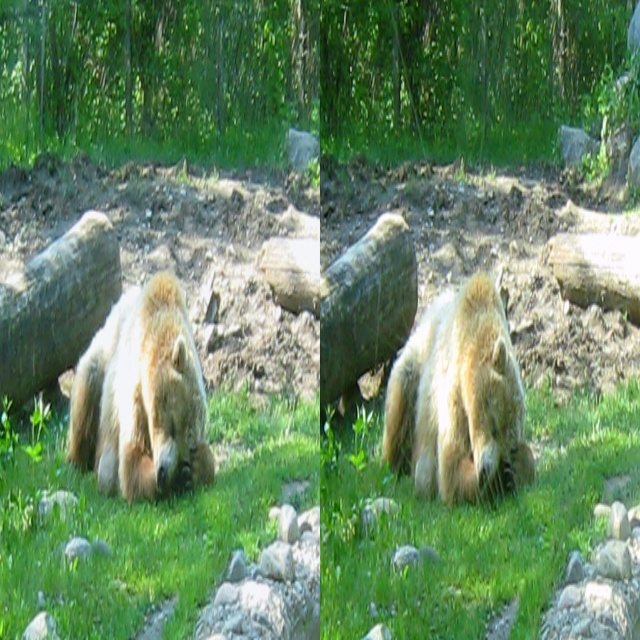Bear: (378, 266, 534, 497), (63, 266, 206, 500)
